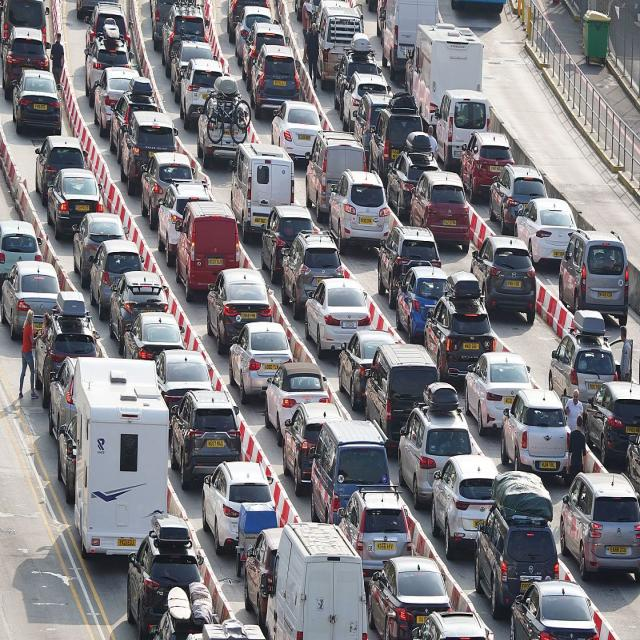Truck: (72, 356, 170, 564), (268, 521, 367, 640), (412, 31, 484, 131), (234, 138, 297, 236), (177, 202, 236, 299), (383, 0, 436, 81)
car: (562, 469, 638, 590), (396, 404, 473, 504), (173, 386, 245, 486), (558, 228, 629, 321), (204, 458, 274, 548), (502, 386, 573, 473), (472, 235, 538, 318), (230, 316, 292, 402), (305, 278, 373, 355), (2, 257, 62, 339), (138, 148, 192, 219), (261, 204, 312, 270)
